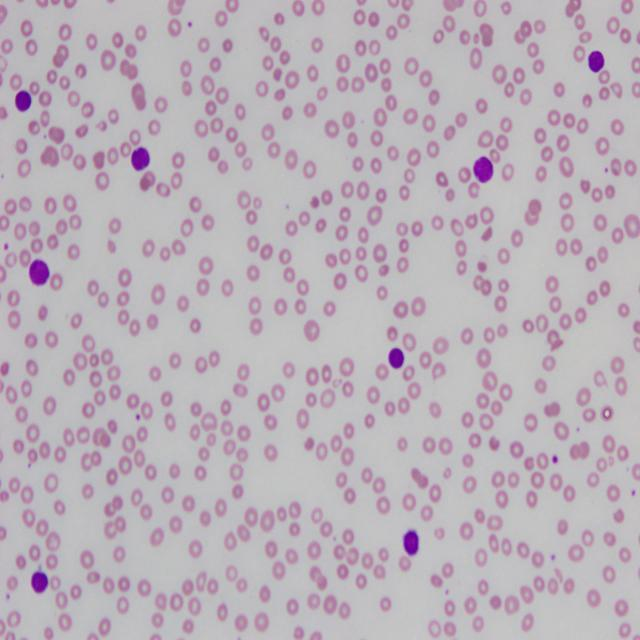cell: (474, 157, 494, 183), (29, 260, 49, 285), (131, 147, 150, 170), (31, 572, 49, 593), (404, 530, 419, 555), (589, 50, 605, 72), (15, 90, 31, 112), (389, 348, 404, 368)
